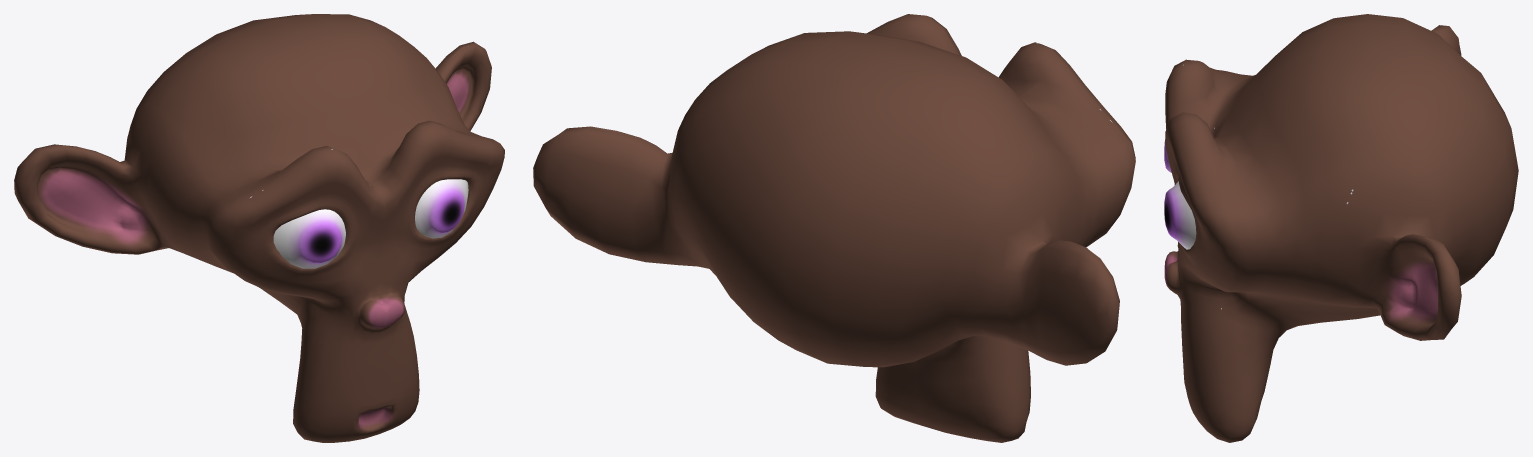
Rendered from Suzanne.obj.
3 views of the same model, side by side, from view 1: azimuth 30°, elevation 25°; view 2: azimuth 150°, elevation 25°; view 3: azimuth 270°, elevation 25° (orthographic). The views are drawn at different scales.
Parts seen in each view (by area): view 1: Suzanne; view 2: Suzanne; view 3: Suzanne.
Part boxes in pixels (box(x1,y1,x2,y2)): Suzanne: box(14, 14, 504, 442); Suzanne: box(533, 14, 1135, 442); Suzanne: box(1164, 14, 1518, 442).
Bounding box in the file's own units: 2.65 × 1.91 × 1.6.
